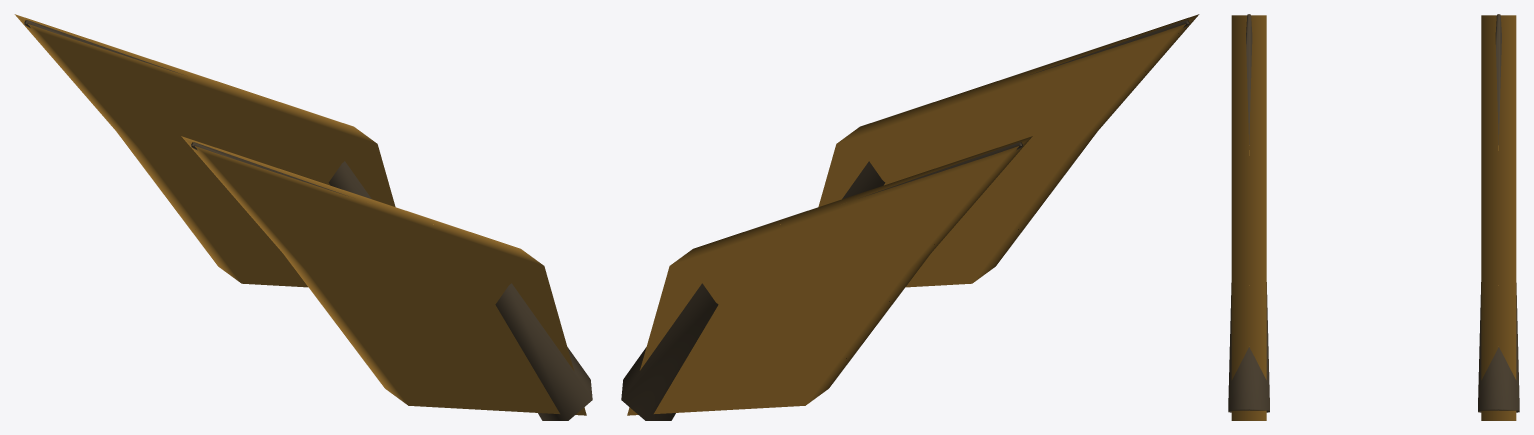
The model's file is sprint.glb.
3 views of the same model, side by side, from view 1: azimuth 30°, elevation 25°; view 2: azimuth 150°, elevation 25°; view 3: azimuth 270°, elevation 25° (orthographic). The views are drawn at different scales.
Visible parts, largest first — view 1: sprint; view 2: sprint; view 3: sprint.
Part boxes in pixels (bbox=[...]): sprint: bbox=[14, 14, 592, 420]; sprint: bbox=[621, 14, 1199, 420]; sprint: bbox=[1228, 14, 1519, 420].
Size of the model in its own units: 0.4701 by 0.4093 by 0.3972.
